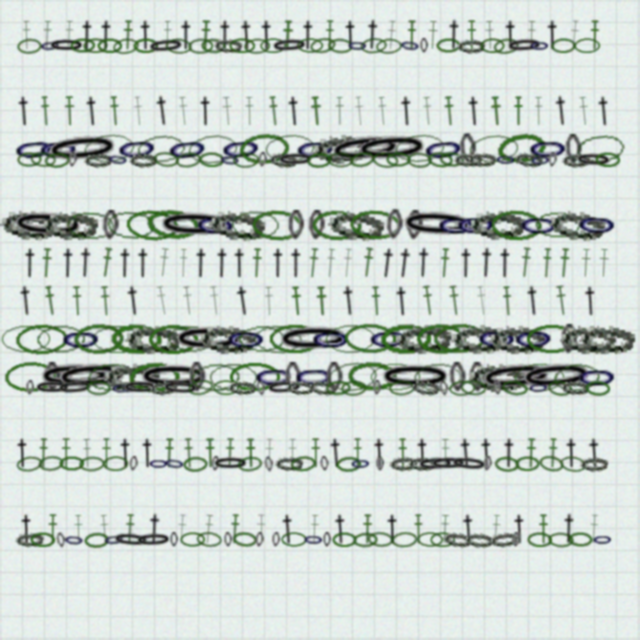chain: (327, 130, 404, 168), (44, 131, 121, 167), (478, 359, 555, 395), (54, 359, 131, 394), (518, 359, 595, 394), (354, 131, 430, 166), (10, 208, 86, 242), (399, 208, 475, 241), (157, 209, 232, 241), (276, 323, 351, 355), (37, 361, 112, 392), (172, 324, 247, 354), (137, 362, 212, 392), (378, 362, 453, 392), (312, 131, 370, 166), (495, 130, 549, 167), (208, 208, 266, 242), (327, 208, 385, 242), (548, 208, 606, 242), (145, 207, 200, 242), (325, 359, 380, 394), (82, 131, 136, 166), (393, 131, 447, 166), (573, 131, 627, 166), (0, 208, 57, 241), (395, 322, 452, 355), (467, 132, 521, 166), (125, 208, 179, 242), (103, 361, 160, 393), (135, 132, 188, 166), (186, 132, 239, 166), (551, 360, 603, 394), (238, 132, 291, 165), (263, 132, 316, 165), (104, 208, 157, 241), (469, 209, 525, 240), (451, 323, 507, 354), (15, 323, 69, 355), (85, 360, 137, 393), (490, 209, 543, 241), (42, 210, 98, 240), (125, 324, 181, 354), (199, 324, 255, 354), (489, 324, 545, 354), (560, 324, 616, 354), (579, 324, 635, 354), (469, 362, 525, 392), (4, 361, 58, 392), (64, 209, 116, 241), (251, 209, 303, 241), (311, 209, 363, 241), (349, 209, 401, 241), (128, 361, 180, 393), (189, 361, 241, 393), (412, 361, 464, 393), (324, 323, 377, 354), (433, 323, 486, 354), (165, 323, 216, 355), (252, 323, 303, 355), (73, 323, 125, 354), (110, 323, 162, 354), (344, 323, 396, 354), (230, 209, 281, 240), (35, 323, 86, 354), (380, 323, 431, 354), (347, 361, 398, 392), (0, 324, 52, 354), (91, 324, 143, 354), (269, 324, 321, 354), (229, 362, 281, 392), (369, 362, 421, 392), (513, 362, 565, 392), (416, 323, 466, 354), (165, 132, 210, 166), (421, 132, 466, 166), (526, 324, 577, 354), (533, 210, 583, 240), (148, 324, 198, 354), (237, 324, 287, 354), (208, 362, 258, 392), (12, 132, 56, 166), (115, 132, 159, 165), (219, 132, 263, 165), (37, 133, 80, 165), (294, 133, 337, 165), (194, 209, 237, 241), (367, 323, 410, 354), (512, 323, 555, 354), (527, 133, 569, 164), (455, 209, 497, 240), (576, 209, 618, 240), (476, 323, 518, 354), (253, 361, 295, 392), (293, 361, 335, 392), (436, 210, 478, 240), (518, 210, 560, 240), (60, 324, 102, 354), (225, 324, 267, 354), (310, 324, 352, 354), (576, 362, 618, 392), (147, 37, 185, 55), (450, 455, 488, 473), (112, 531, 150, 549), (56, 379, 94, 396), (266, 379, 304, 396), (271, 37, 308, 54), (506, 37, 543, 54), (575, 152, 612, 168), (162, 380, 199, 396), (417, 456, 454, 472), (135, 532, 172, 548), (489, 530, 519, 549), (459, 133, 477, 164), (48, 38, 85, 53), (277, 152, 314, 167), (34, 380, 71, 395), (122, 380, 159, 395), (212, 456, 249, 471), (430, 456, 467, 471), (149, 378, 178, 397), (309, 36, 337, 55), (386, 209, 403, 240), (349, 150, 376, 169), (187, 378, 214, 397), (538, 454, 565, 473), (565, 134, 582, 164), (102, 210, 119, 240), (308, 210, 325, 240), (406, 210, 423, 240), (44, 362, 61, 392), (326, 362, 343, 392), (449, 362, 466, 392), (469, 362, 486, 392), (112, 37, 140, 55), (559, 455, 587, 473), (514, 151, 543, 168), (308, 379, 337, 396), (411, 379, 440, 396), (389, 455, 418, 472), (15, 531, 44, 548), (443, 531, 472, 548), (175, 151, 202, 169), (372, 151, 399, 169), (501, 379, 528, 397), (16, 455, 43, 473), (288, 210, 304, 240), (561, 324, 577, 354), (189, 362, 205, 392), (285, 362, 301, 392), (493, 37, 519, 55), (547, 379, 573, 397), (237, 455, 263, 473), (360, 37, 387, 54), (460, 379, 487, 396), (367, 531, 394, 548), (391, 531, 418, 548), (457, 38, 485, 54), (84, 152, 112, 168), (129, 152, 157, 168), (269, 152, 297, 168), (562, 152, 590, 168), (580, 456, 608, 472), (465, 532, 493, 548), (30, 151, 56, 168), (153, 151, 179, 168), (427, 151, 453, 168), (439, 151, 465, 168), (38, 455, 64, 472), (290, 455, 316, 472), (196, 531, 222, 548), (232, 531, 258, 548), (165, 38, 192, 54), (214, 38, 242, 53), (454, 152, 482, 167), (468, 152, 496, 167), (228, 380, 256, 395), (286, 380, 314, 395), (561, 380, 589, 395), (275, 456, 303, 471), (408, 456, 436, 471), (244, 38, 270, 54), (376, 38, 402, 54), (44, 152, 70, 168), (233, 152, 259, 168), (306, 152, 332, 168), (327, 152, 353, 168), (325, 380, 351, 396), (389, 380, 415, 396), (449, 380, 475, 396), (79, 456, 105, 472), (494, 456, 520, 472), (548, 532, 574, 548), (17, 38, 42, 54), (188, 38, 213, 54), (201, 38, 226, 54), (328, 38, 353, 54), (407, 152, 432, 168), (86, 380, 111, 396), (341, 380, 366, 396), (585, 380, 610, 396), (183, 456, 208, 472), (336, 456, 361, 472), (84, 532, 109, 548), (353, 532, 378, 548), (163, 455, 186, 472), (229, 38, 255, 53), (260, 38, 286, 53), (297, 38, 323, 53), (574, 38, 600, 53), (213, 380, 239, 395), (281, 532, 307, 547), (417, 532, 443, 547), (70, 38, 95, 53), (83, 38, 108, 53), (97, 38, 122, 53), (133, 38, 158, 53), (436, 38, 461, 53), (480, 38, 505, 53), (551, 38, 576, 53), (17, 152, 42, 167), (199, 152, 224, 167), (386, 152, 411, 167), (595, 152, 620, 167), (59, 456, 84, 471), (103, 456, 128, 471), (515, 456, 540, 471), (30, 532, 55, 547), (180, 532, 205, 547), (332, 532, 357, 547), (430, 532, 455, 547), (527, 532, 552, 547), (568, 532, 593, 547), (39, 37, 61, 54), (399, 37, 421, 54), (107, 151, 129, 168), (103, 531, 125, 548), (219, 152, 241, 168), (63, 532, 85, 548), (530, 152, 551, 168), (111, 380, 132, 396), (347, 38, 368, 53), (529, 38, 550, 53), (495, 152, 516, 167), (528, 380, 549, 395), (148, 456, 169, 471), (350, 456, 371, 471), (303, 532, 324, 547), (592, 532, 613, 547), (256, 380, 266, 396), (439, 380, 449, 396), (264, 456, 274, 472), (56, 532, 66, 548), (68, 152, 77, 167), (258, 152, 267, 167), (548, 152, 557, 167), (493, 380, 502, 395), (129, 456, 138, 471), (211, 456, 220, 471), (320, 456, 329, 471), (483, 456, 492, 471), (255, 532, 264, 547), (420, 38, 428, 53), (26, 380, 34, 395), (373, 380, 381, 395), (376, 456, 384, 471), (170, 532, 178, 547), (224, 532, 232, 547), (272, 532, 280, 547), (323, 532, 331, 547), (512, 532, 520, 547)
half_double: (377, 247, 398, 279), (394, 247, 415, 279), (233, 285, 253, 316), (363, 19, 382, 50), (153, 95, 172, 126), (552, 95, 571, 126), (76, 247, 95, 278), (414, 247, 433, 278), (477, 247, 496, 278), (124, 285, 143, 316), (145, 513, 164, 544), (445, 19, 463, 50), (17, 285, 35, 316), (340, 285, 358, 316), (524, 285, 542, 316), (560, 513, 578, 544), (78, 20, 96, 50), (97, 20, 115, 50), (177, 20, 195, 50), (216, 20, 234, 50), (299, 20, 317, 50), (15, 96, 33, 126), (83, 96, 101, 126), (285, 96, 303, 126), (465, 96, 483, 126), (595, 96, 613, 126), (21, 248, 39, 278), (59, 248, 77, 278), (116, 248, 134, 278), (134, 248, 152, 278), (192, 248, 210, 278), (213, 248, 231, 278), (269, 248, 287, 278), (287, 248, 305, 278), (457, 248, 475, 278), (496, 248, 514, 278), (393, 286, 411, 316), (327, 438, 345, 468), (457, 438, 475, 468), (500, 438, 518, 468), (279, 514, 297, 544), (137, 20, 154, 50), (238, 20, 255, 50), (258, 20, 275, 50), (342, 20, 359, 50), (502, 20, 519, 50), (544, 20, 561, 50), (197, 96, 214, 126), (398, 96, 415, 126), (231, 248, 248, 278), (582, 286, 599, 316), (14, 438, 31, 468), (117, 438, 134, 468), (139, 438, 156, 468), (371, 438, 388, 468), (414, 438, 431, 468), (478, 438, 495, 468), (563, 438, 580, 468), (586, 438, 603, 468), (18, 514, 35, 544), (332, 514, 349, 544), (384, 514, 401, 544), (460, 514, 477, 544), (511, 514, 528, 544), (154, 285, 170, 316), (99, 247, 114, 278), (156, 247, 171, 278), (518, 247, 533, 278), (43, 285, 58, 316), (207, 285, 222, 316), (447, 285, 462, 316), (554, 285, 569, 316), (361, 247, 375, 278), (181, 285, 195, 316), (421, 285, 435, 316), (475, 285, 489, 316), (220, 96, 234, 126), (267, 96, 281, 126), (309, 96, 323, 126), (489, 96, 503, 126), (577, 96, 591, 126), (199, 20, 212, 50), (281, 20, 294, 50), (385, 20, 398, 50), (426, 20, 439, 50), (483, 20, 496, 50), (568, 20, 581, 50), (39, 96, 52, 126), (63, 96, 76, 126), (108, 96, 121, 126), (132, 96, 145, 126), (177, 96, 190, 126), (353, 96, 366, 126), (376, 96, 389, 126), (421, 96, 434, 126), (443, 96, 456, 126), (40, 248, 53, 278), (307, 248, 320, 278), (324, 248, 337, 278), (341, 248, 354, 278), (438, 248, 451, 278), (558, 248, 571, 278), (579, 248, 592, 278), (597, 248, 610, 278), (99, 286, 112, 316), (290, 286, 303, 316), (315, 286, 328, 316), (501, 286, 514, 316), (98, 514, 111, 544), (202, 514, 215, 544), (438, 514, 451, 544), (41, 20, 53, 50), (63, 20, 75, 50), (122, 20, 134, 50), (251, 248, 263, 278), (541, 248, 553, 278), (71, 286, 83, 316), (263, 286, 275, 316), (370, 286, 382, 316), (60, 438, 72, 468), (81, 438, 93, 468), (163, 438, 175, 468), (183, 438, 195, 468), (204, 438, 216, 468), (224, 438, 236, 468), (525, 438, 537, 468), (547, 438, 559, 468), (124, 514, 136, 544), (176, 514, 188, 544), (229, 514, 241, 544), (255, 514, 267, 544), (490, 514, 502, 544), (588, 514, 600, 544), (21, 20, 32, 50), (162, 20, 173, 50), (324, 20, 335, 50), (406, 20, 417, 50), (466, 20, 477, 50), (526, 20, 537, 50), (589, 20, 600, 50), (244, 96, 255, 126), (334, 96, 345, 126), (513, 96, 524, 126), (533, 96, 544, 126), (178, 248, 189, 278), (38, 438, 49, 468), (101, 438, 112, 468), (245, 438, 256, 468), (264, 438, 275, 468), (287, 438, 298, 468), (310, 438, 321, 468), (352, 438, 363, 468), (397, 438, 408, 468), (440, 438, 451, 468), (47, 514, 58, 544), (73, 514, 84, 544), (309, 514, 320, 544), (362, 514, 373, 544), (413, 514, 424, 544), (538, 514, 549, 544)
